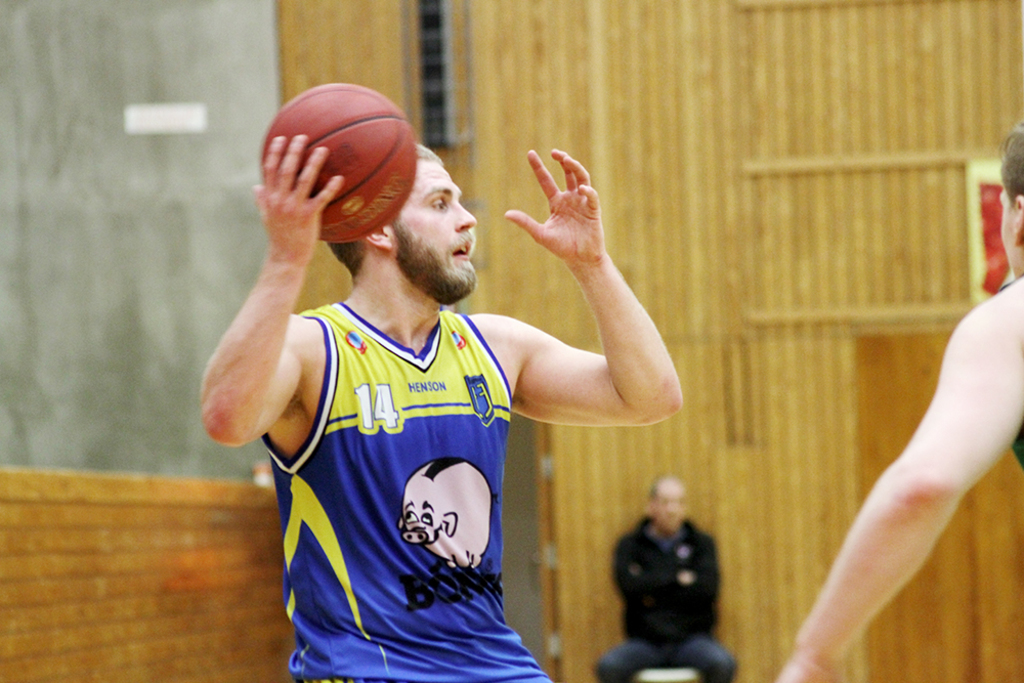Ball: (263, 82, 416, 241)
